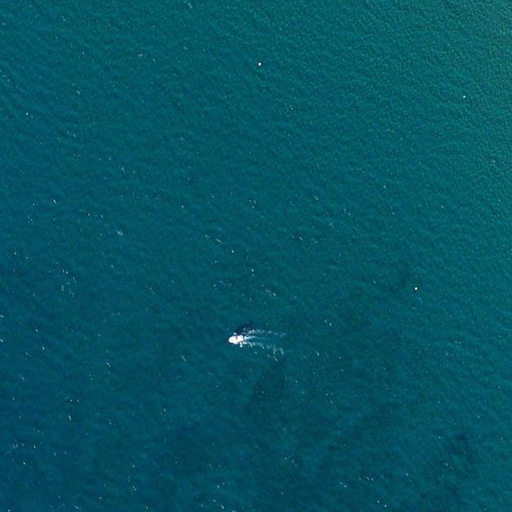ship: (225, 332, 247, 346)
